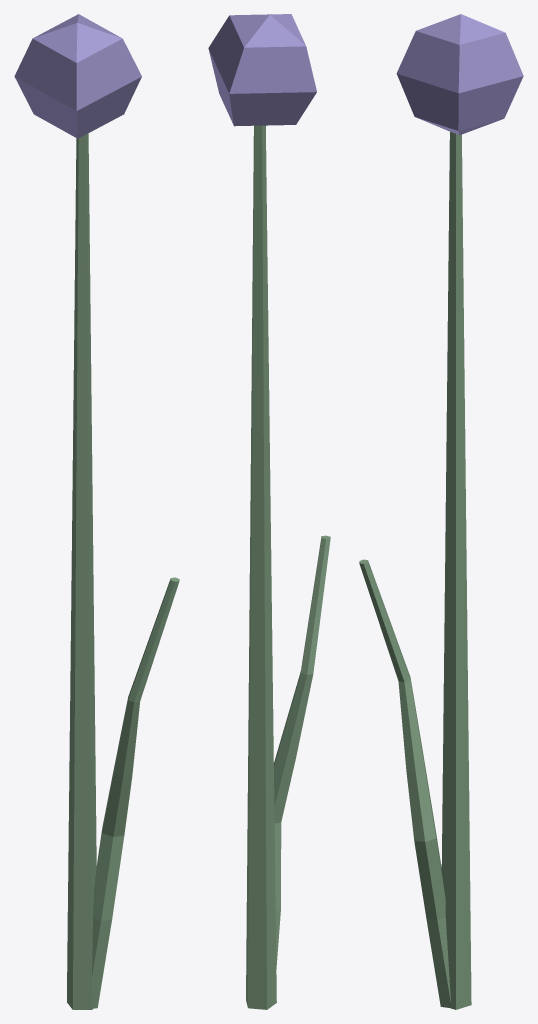
The model's file is Flower_new.fbx.
The picture shows the model from 3 angles, left to right: view 1: azimuth 90°, elevation 25°; view 2: azimuth 150°, elevation 25°; view 3: azimuth 270°, elevation 25°; orthographic projection.
Parts seen in each view (by area): view 1: pasted__pCylinder1; view 2: pasted__pCylinder1; view 3: pasted__pCylinder1.
Part boxes in pixels (x1,y1,x2,y2): pasted__pCylinder1: (14,14,179,1009); pasted__pCylinder1: (208,14,330,1009); pasted__pCylinder1: (359,14,523,1009).
Size of the model in its own units: 8.88 by 76.6 by 11.6.
